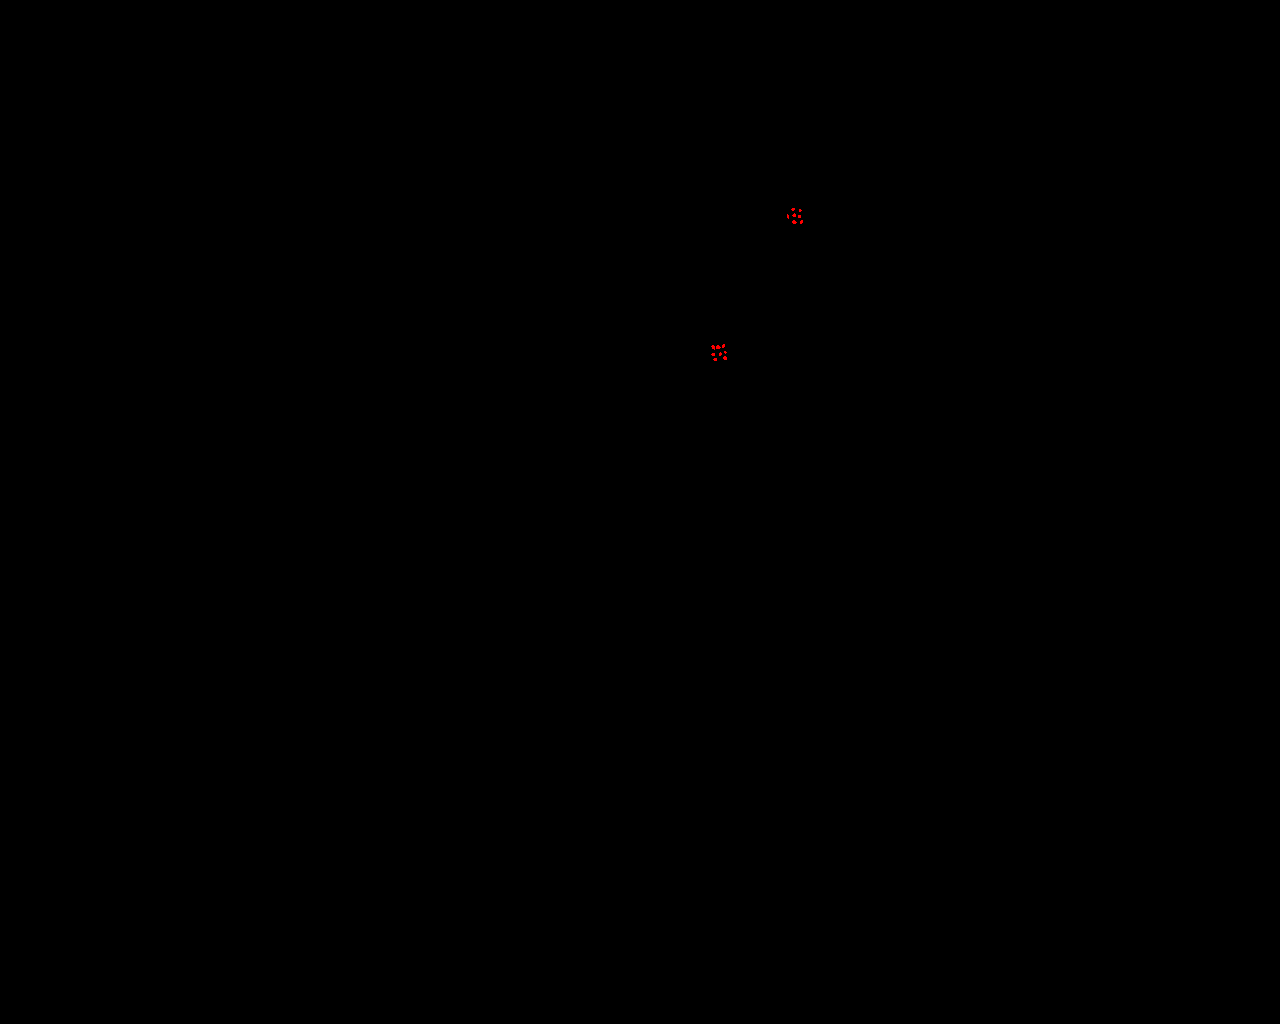Target: (711, 345, 715, 350), (716, 345, 721, 349), (792, 213, 796, 217), (723, 356, 727, 360), (792, 220, 797, 224), (791, 208, 795, 211), (722, 344, 725, 348), (719, 352, 722, 356), (711, 353, 715, 356), (787, 214, 789, 219), (799, 209, 802, 212), (798, 215, 801, 218), (724, 351, 727, 354), (713, 358, 717, 360), (800, 220, 802, 224)
